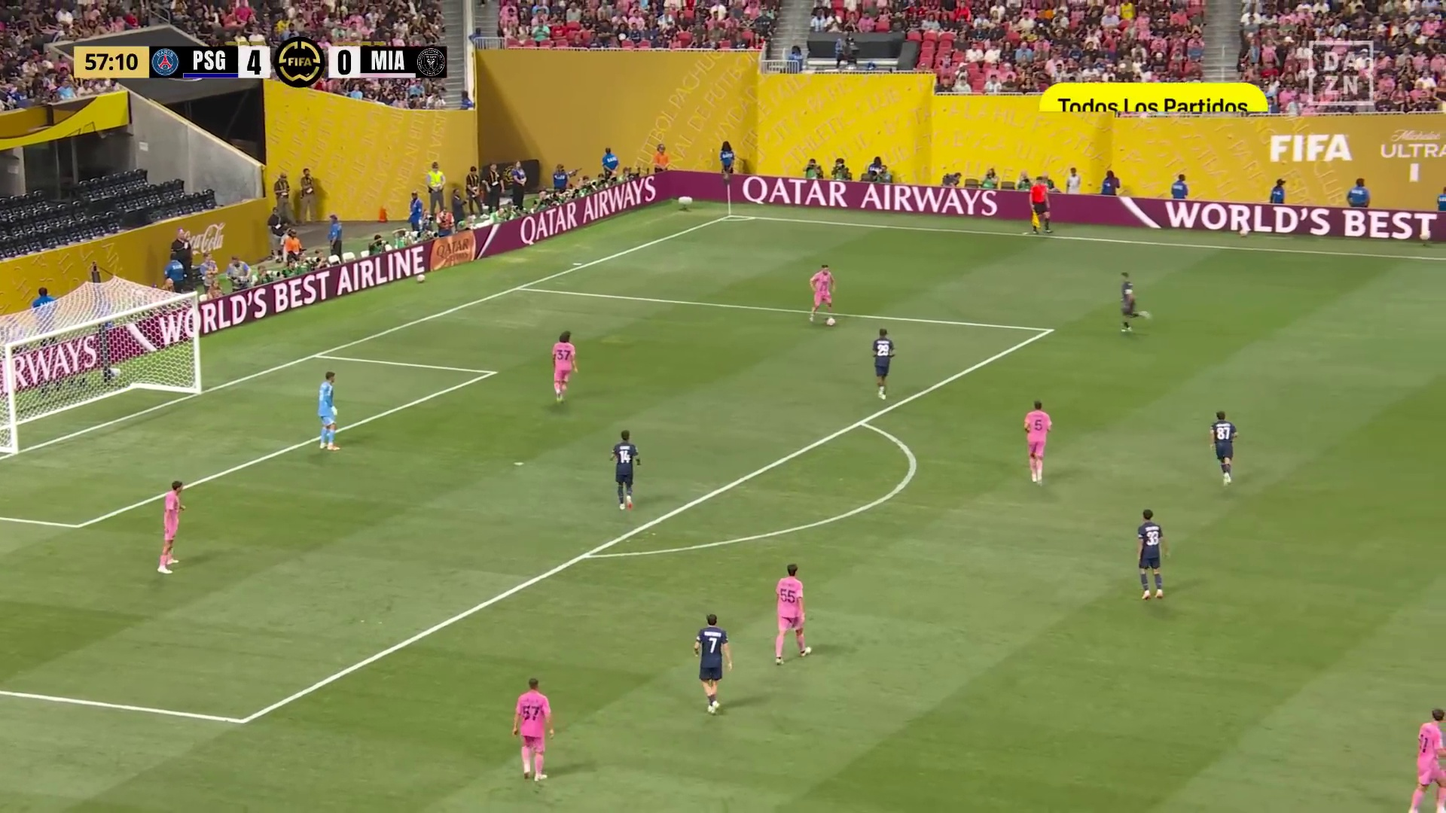ball: (827, 317, 836, 327)
player: (507, 676, 559, 784), (688, 613, 737, 717), (769, 562, 816, 667), (1402, 706, 1446, 813), (1131, 508, 1172, 602), (152, 478, 191, 575), (607, 429, 645, 512), (1020, 399, 1056, 486), (312, 370, 346, 454), (1206, 410, 1242, 487), (1112, 271, 1154, 337), (547, 330, 582, 406), (866, 327, 900, 402), (803, 262, 841, 328)
referee: (1022, 177, 1057, 240)
